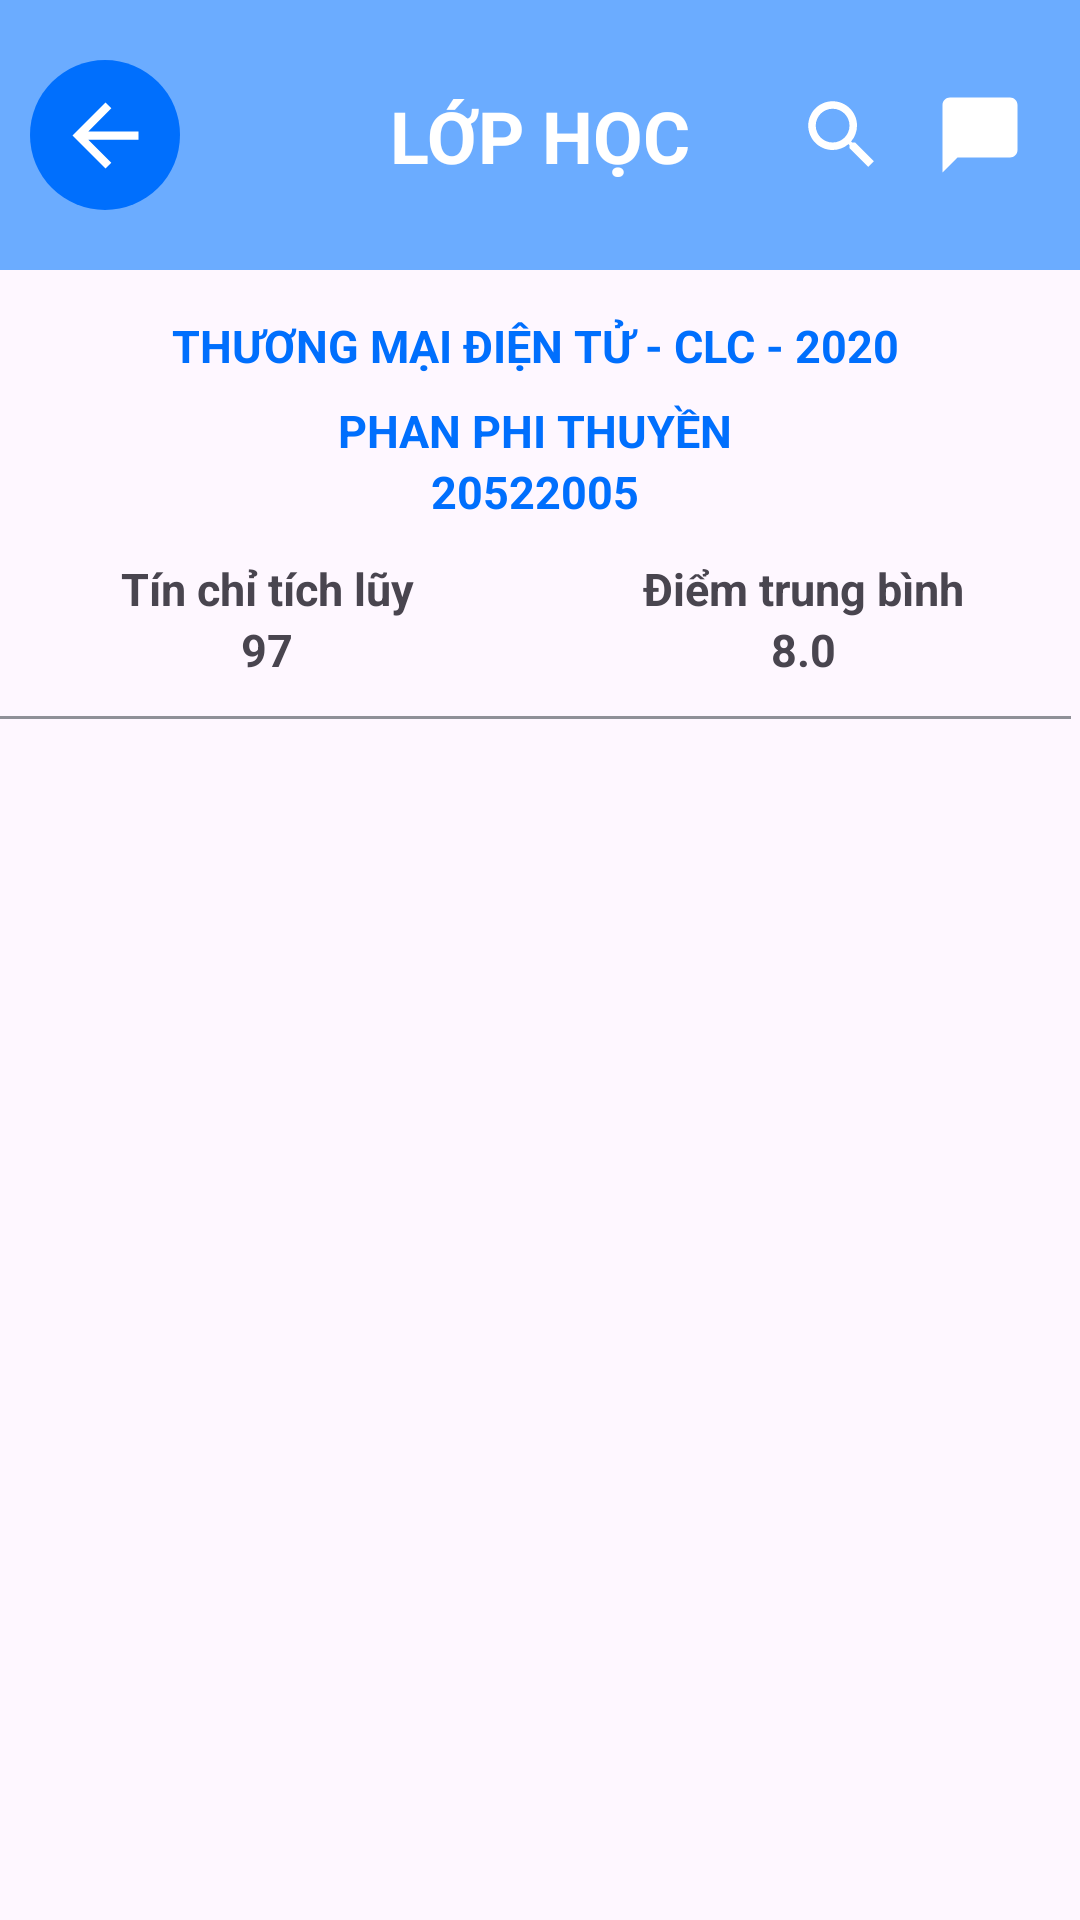

Icon click points for this 1080 × 1920 phone screenshot, format (x=x, y=y):
arrow back: (x=105, y=135)
chat bubble: (x=980, y=134)
search: (x=841, y=134)
